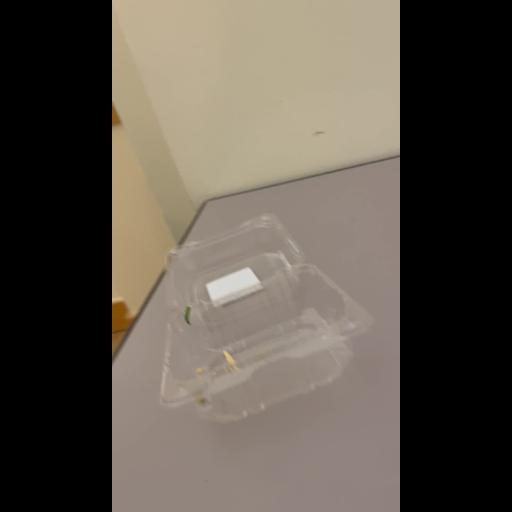small_plastic_container: (146, 206, 376, 432)
